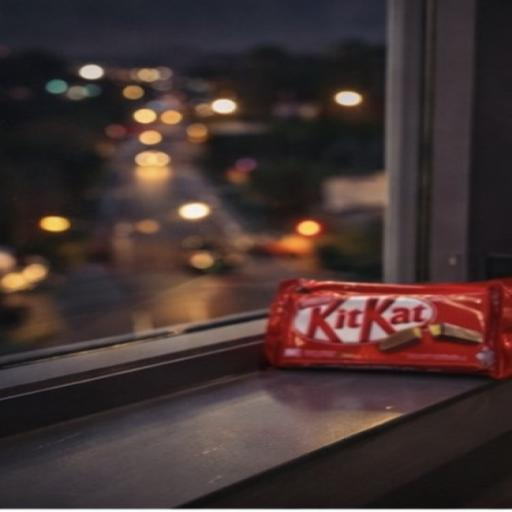kitkat: (215, 221, 512, 408)
